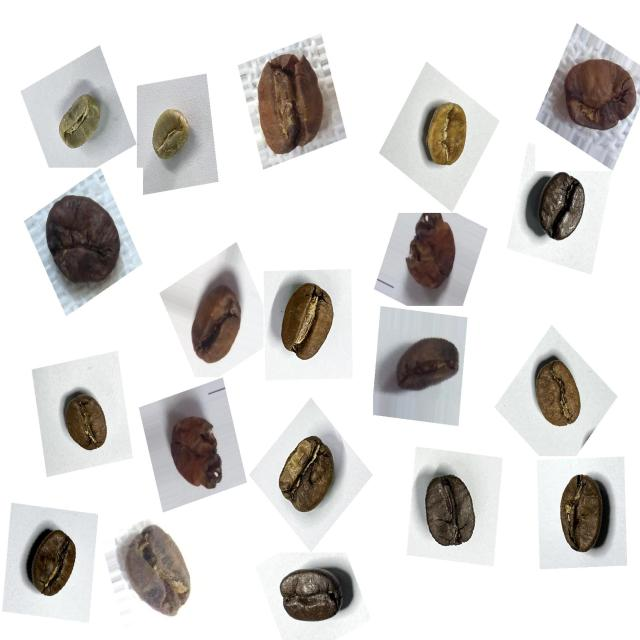bad: (240, 38, 335, 166), (36, 181, 130, 294), (116, 519, 202, 626), (552, 48, 637, 147), (159, 404, 232, 504), (182, 270, 250, 375), (398, 209, 469, 306), (390, 324, 467, 404)
dark: (270, 556, 354, 638), (524, 166, 598, 256)
green: (50, 86, 112, 160), (141, 99, 200, 172)
light: (411, 93, 479, 181)
medium: (542, 464, 621, 569), (269, 272, 348, 375), (410, 463, 491, 563), (268, 428, 348, 526), (17, 518, 87, 610), (524, 353, 592, 441), (54, 384, 119, 464)
